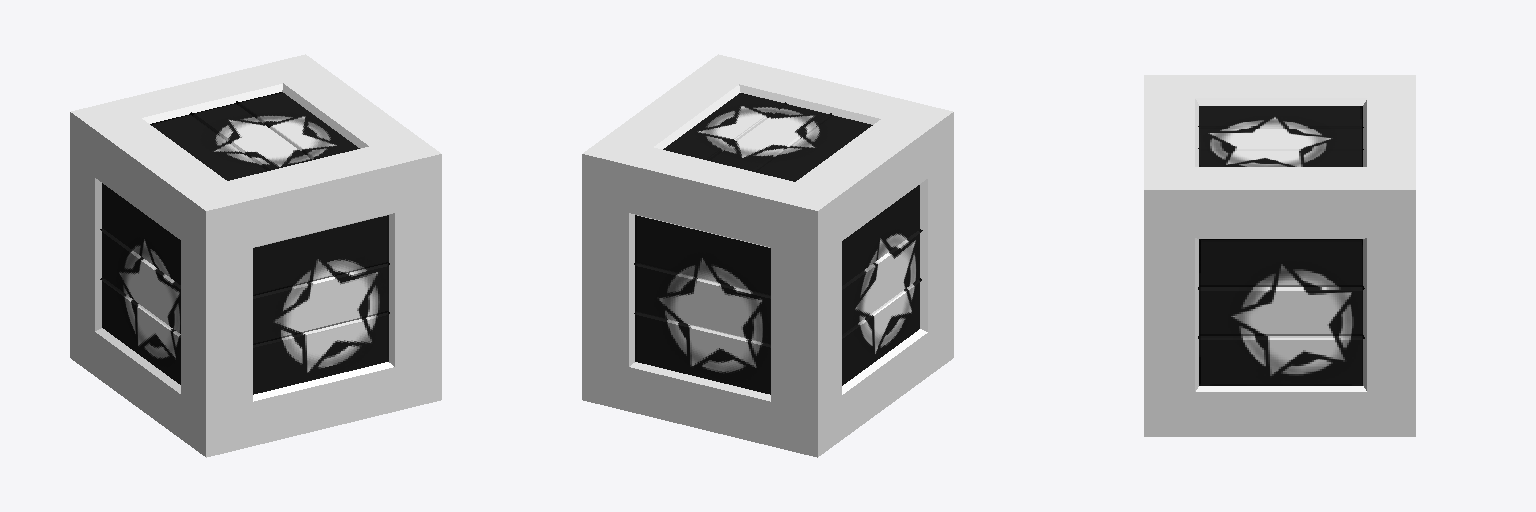
3 views of the same model, side by side, from view 1: azimuth 30°, elevation 25°; view 2: azimuth 150°, elevation 25°; view 3: azimuth 270°, elevation 25° (orthographic).
Parts seen in each view (by area): view 1: obj1, obj2; view 2: obj1, obj2; view 3: obj1, obj2.
Boxes of the visible parts, x1=… form: obj1: x1=70, y1=54, x2=441, y2=457; obj2: x1=100, y1=92, x2=389, y2=394; obj1: x1=582, y1=54, x2=953, y2=457; obj2: x1=634, y1=93, x2=922, y2=394; obj1: x1=1144, y1=75, x2=1415, y2=436; obj2: x1=1198, y1=106, x2=1364, y2=385.
Size of the model in its own units: 0.512 by 0.512 by 0.512.
Materials: 2 (1 with a texture image).